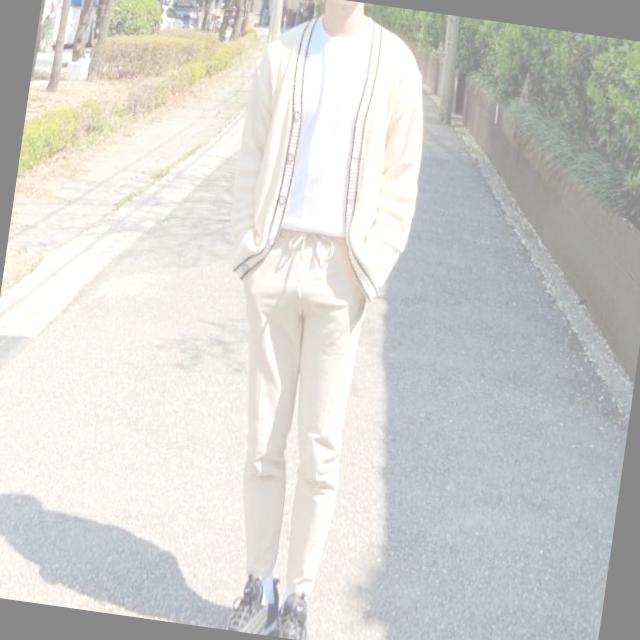cardigan: (218, 0, 439, 308)
trainingpants: (201, 226, 371, 597)
